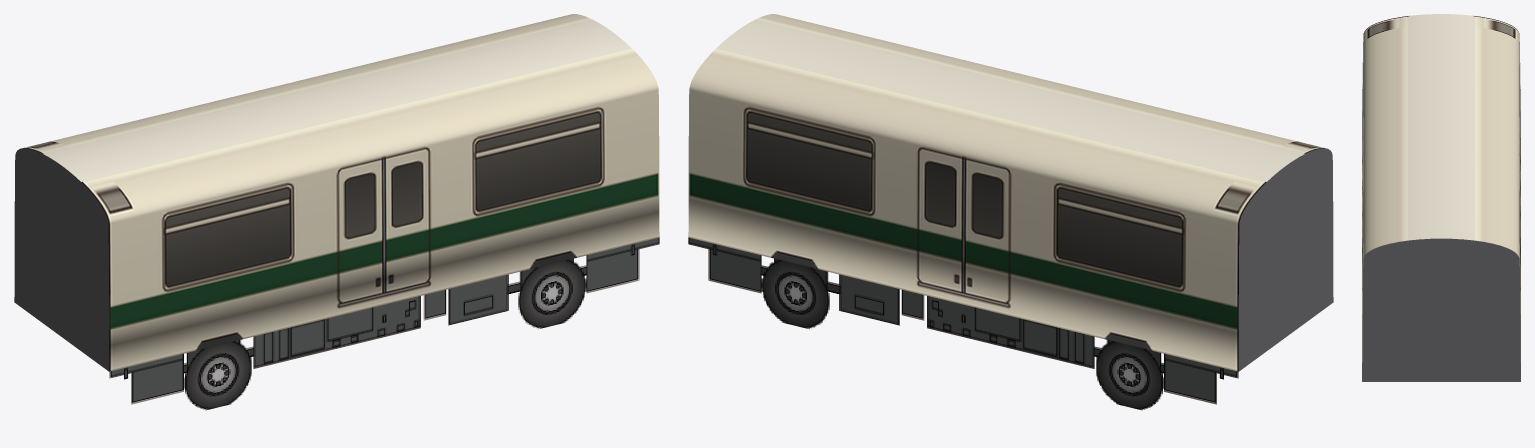
The model's file is car3.glb.
3 views of the same model, side by side, from view 1: azimuth 30°, elevation 25°; view 2: azimuth 150°, elevation 25°; view 3: azimuth 270°, elevation 25° (orthographic). The views are drawn at different scales.
Parts seen in each view (by area): view 1: car3; view 2: car3; view 3: car3.
Boxes of the visible parts, x1,y1,x2,y2 form: car3: (14, 14, 659, 410); car3: (688, 14, 1333, 410); car3: (1362, 14, 1520, 381).
Bounding box in the file's own units: 8 × 3.24 × 2.39.
4 materials, 2 textured.
